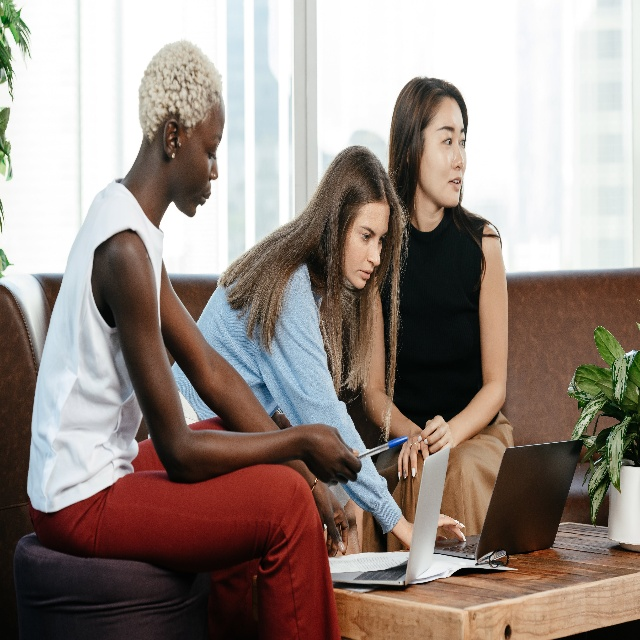Gafas: (475, 546, 509, 568)
Sin_guantes: (301, 418, 361, 484), (313, 479, 350, 556), (410, 515, 467, 556), (419, 414, 452, 449), (397, 437, 428, 473)
